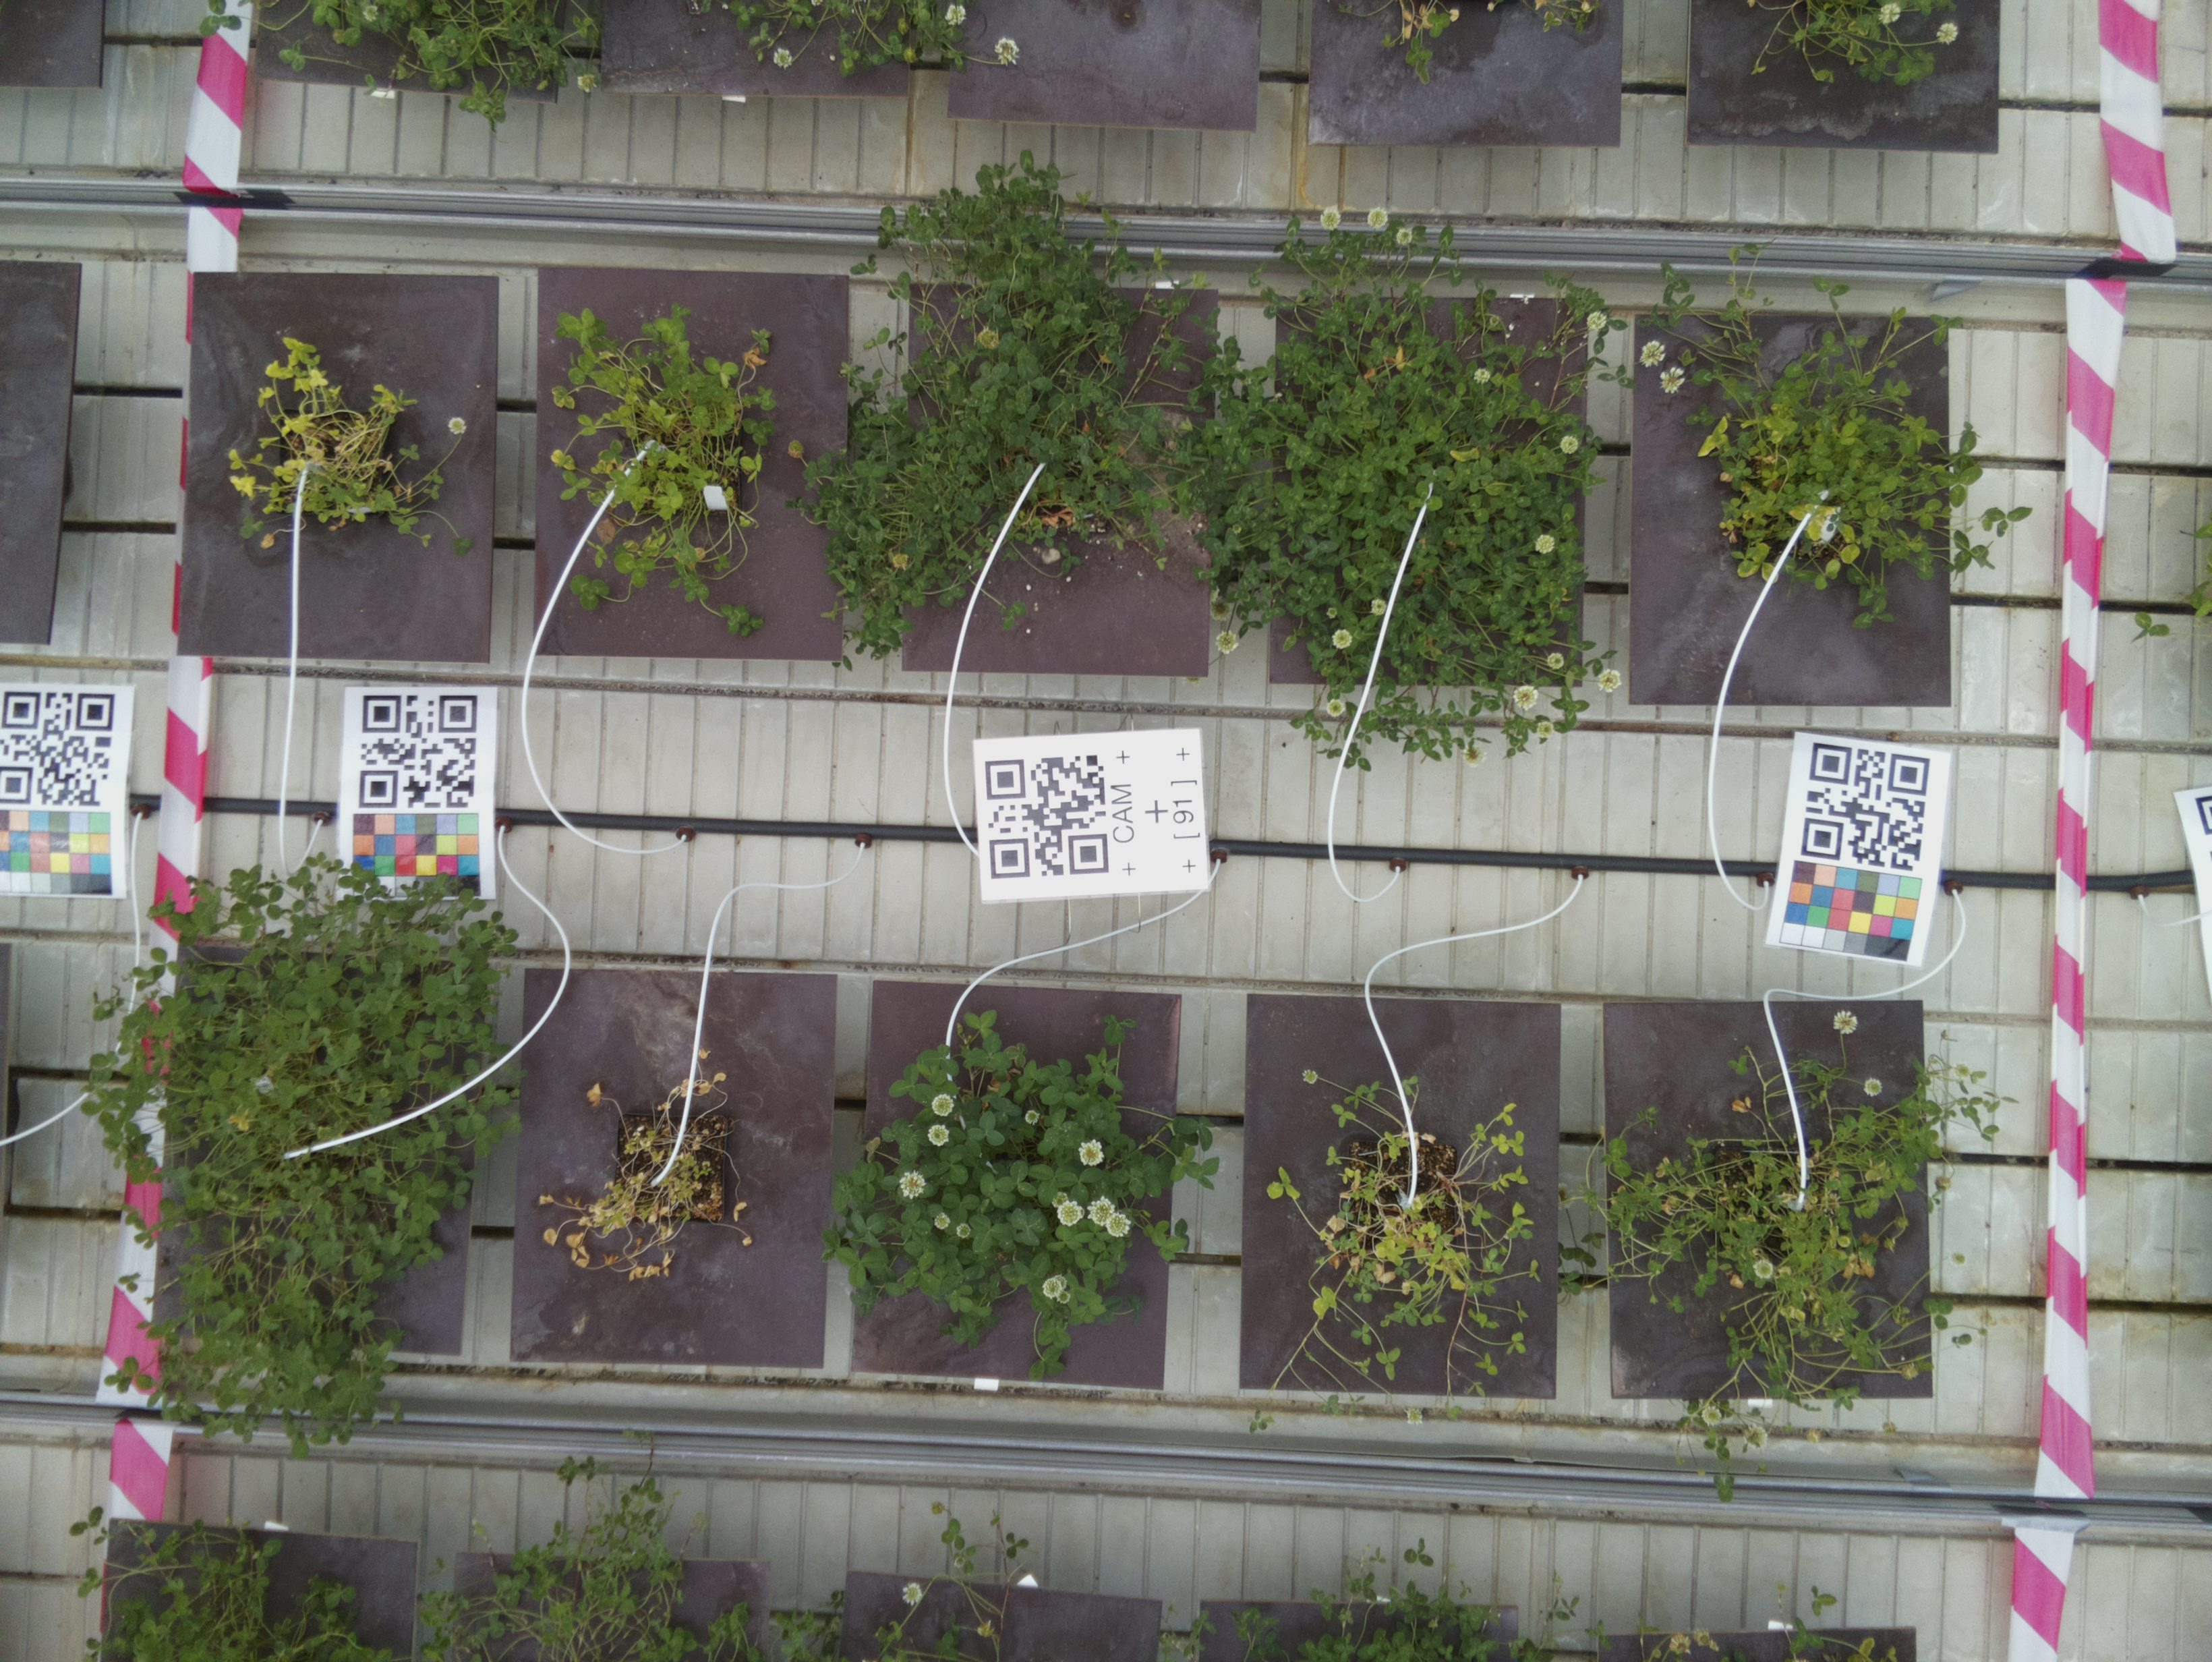POT: (1601, 1004, 1940, 1404), (1243, 988, 1563, 1400), (519, 965, 836, 1365), (1269, 297, 1583, 691), (904, 285, 1220, 676), (536, 264, 840, 669), (866, 976, 1163, 1390), (176, 946, 477, 1353), (1639, 314, 1950, 704), (190, 267, 496, 662)
QRCODE: (969, 731, 1219, 901)
QRCOLOR: (1767, 731, 1950, 960), (342, 688, 496, 894), (2, 681, 136, 901)
